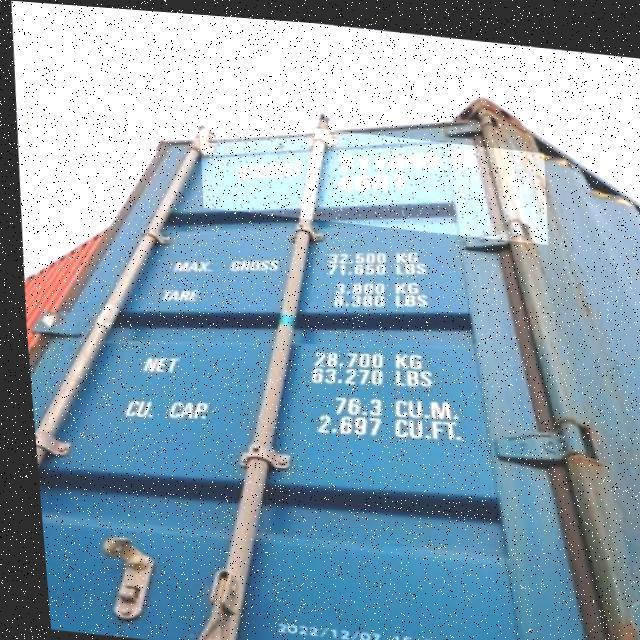container_number_h: (194, 112, 548, 237)
